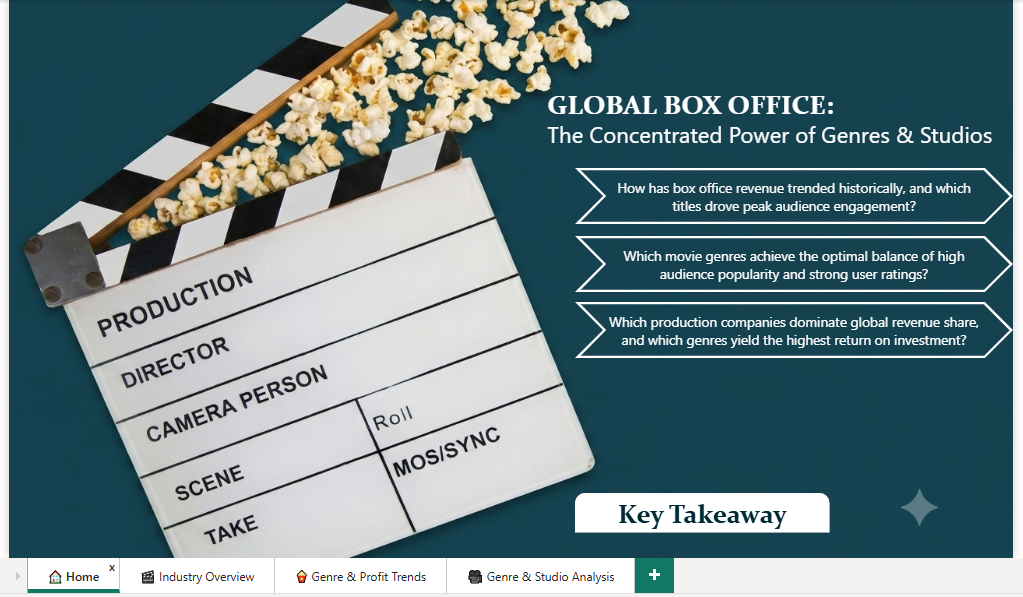

What the dashboard file says about the page in this screenshot:
{"tool":"powerbi","page":{"name":"Overview","canvas":[1280,720],"ordinal":0},"visuals":[{"type":"textbox","box":[42.5,146,398.3,63.8],"z":0},{"type":"shape","box":[932.6,0,347.2,720],"z":1000},{"type":"textbox","box":[42.5,209.8,599.5,42.5],"z":2000},{"type":"textbox","box":[11.3,304.7,858.9,256.5],"z":3000},{"type":"actionButton","box":[42.5,572.6,199.8,49.6],"z":4000},{"type":"image","box":[942.5,324.6,328.8,309],"z":5000},{"type":"image","box":[942.5,75.1,328.8,267.9],"z":6000},{"type":"textbox","box":[42.5,671.8,267.9,35.4],"z":7000}]}

Visuals, with their boxes on the page's 1280x720 design canvas (x1, y1, x2, y2). These are canvas units, not pixel positions in the 1023x597 screenshot, which may show the page scaled, cropped or inside an application window:
textbox: bbox=[42, 146, 441, 210]
shape: bbox=[933, 0, 1280, 720]
textbox: bbox=[42, 210, 642, 252]
textbox: bbox=[11, 305, 870, 561]
actionButton: bbox=[42, 573, 242, 622]
image: bbox=[942, 325, 1271, 634]
image: bbox=[942, 75, 1271, 343]
textbox: bbox=[42, 672, 310, 707]
